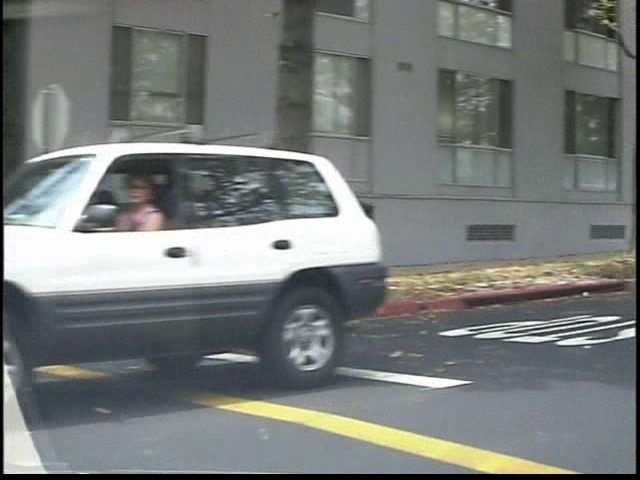person: (125, 162, 219, 407)
